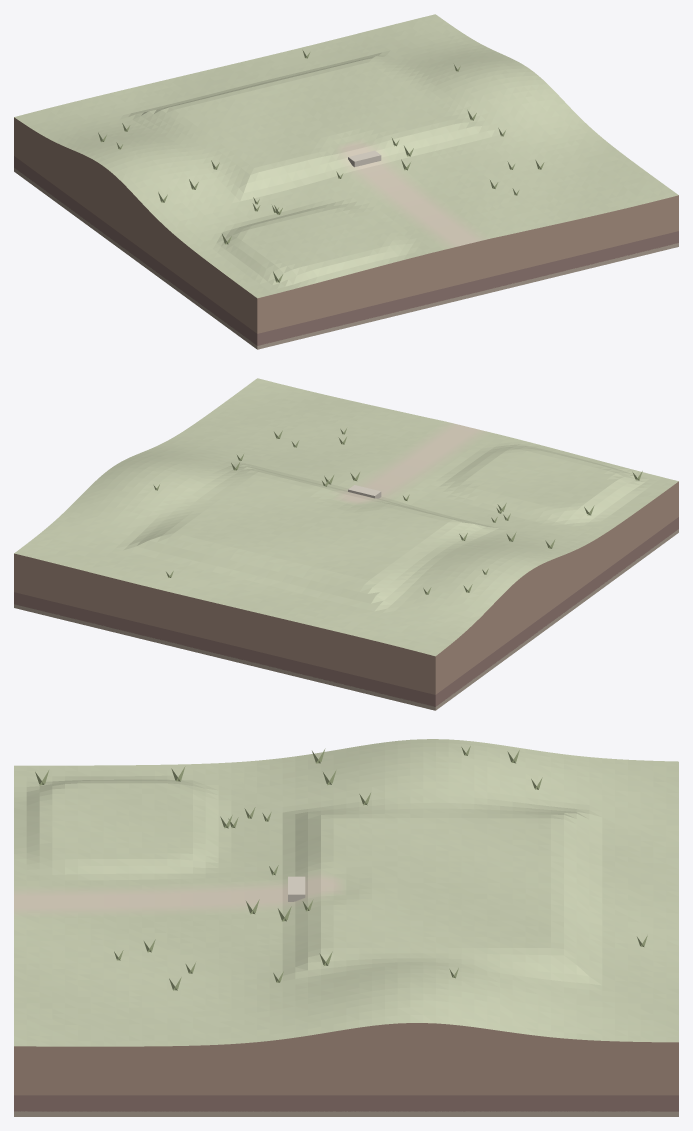
The picture shows the model from 3 angles, top to bottom: view 1: azimuth 30°, elevation 25°; view 2: azimuth 150°, elevation 25°; view 3: azimuth 270°, elevation 25°; orthographic projection. The views are drawn at different scales.
Parts seen in each view (by area): view 1: proc_ground, proc_skirt, proc_grass; view 2: proc_ground, proc_skirt, proc_grass; view 3: proc_ground, proc_skirt, proc_grass.
Boxes of the visible parts, x1,y1,x2,y2 form: proc_ground: [14, 14, 678, 298]; proc_skirt: [14, 117, 678, 349]; proc_grass: [98, 50, 544, 282]; proc_ground: [14, 378, 678, 656]; proc_skirt: [14, 481, 678, 710]; proc_grass: [153, 428, 642, 594]; proc_ground: [14, 739, 678, 1046]; proc_skirt: [14, 1023, 678, 1116]; proc_grass: [35, 746, 647, 990].
Bounding box in the file's own units: 8 × 1.44 × 8.
